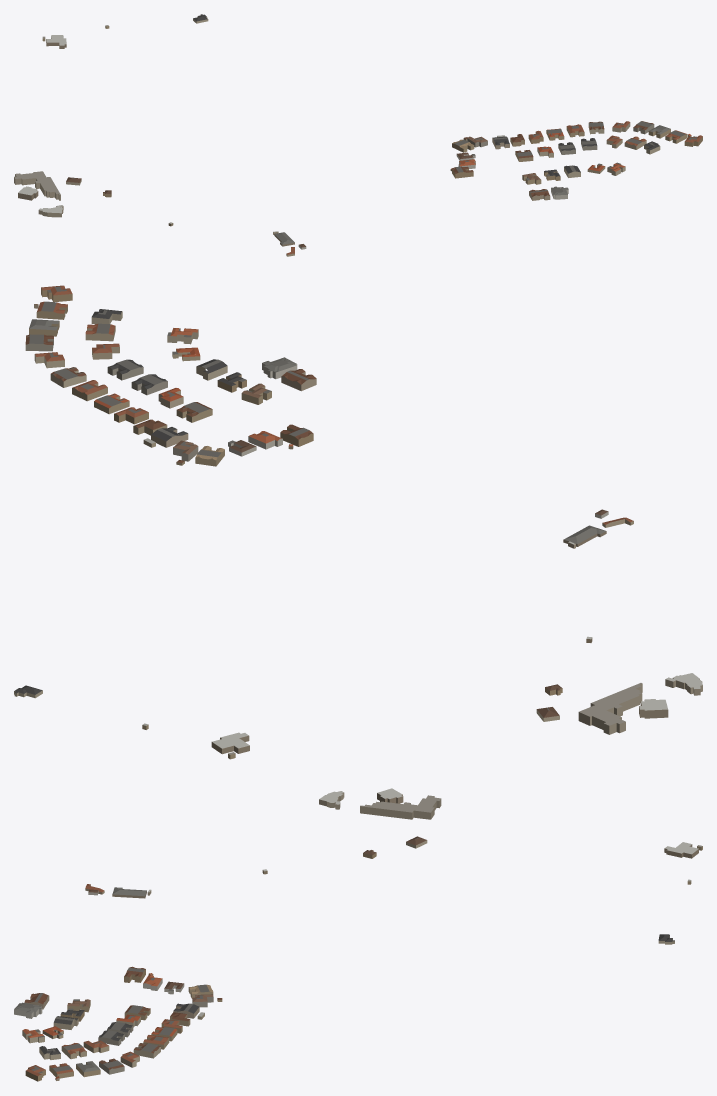
The picture shows the model from 3 angles, top to bottom: view 1: azimuth 30°, elevation 25°; view 2: azimuth 150°, elevation 25°; view 3: azimuth 270°, elevation 25°; orthographic projection. The views are drawn at different scales.
Visible parts, largest first — view 1: buildings_r0_c1_lod1; view 2: buildings_r0_c1_lod1; view 3: buildings_r0_c1_lod1.
Boxes of the visible parts, <box> form: buildings_r0_c1_lod1: <box>14,14,702,256</box>; buildings_r0_c1_lod1: <box>14,285,702,759</box>; buildings_r0_c1_lod1: <box>14,788,702,1081</box>.
Bounding box in the file's own units: 897 × 79.88 × 803.
